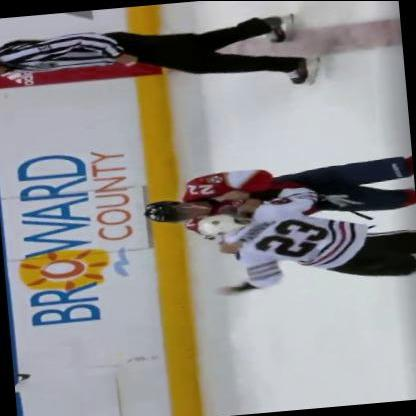non-Voilence: (0, 7, 330, 111)
voilence: (139, 151, 415, 302)
